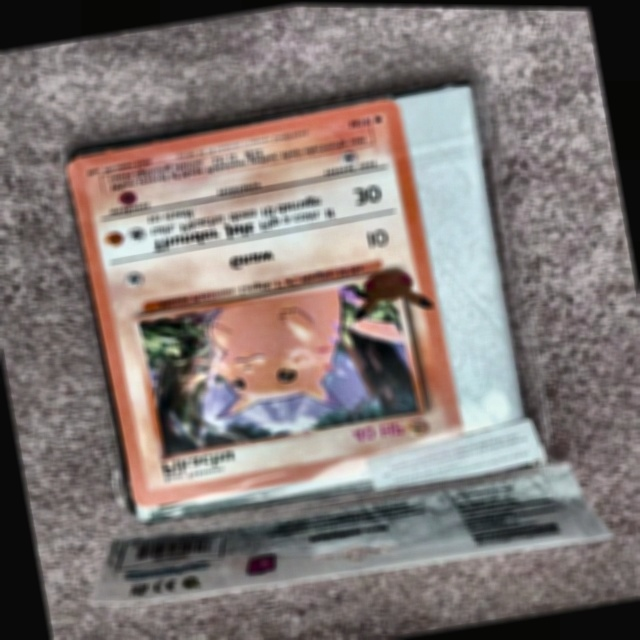card: (66, 98, 468, 507)
